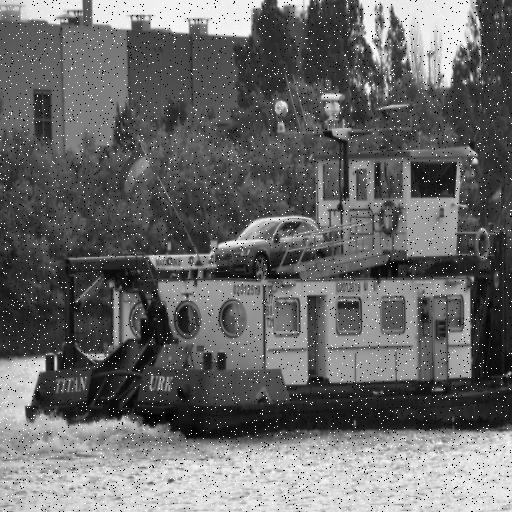tugboat: (18, 87, 512, 447)
